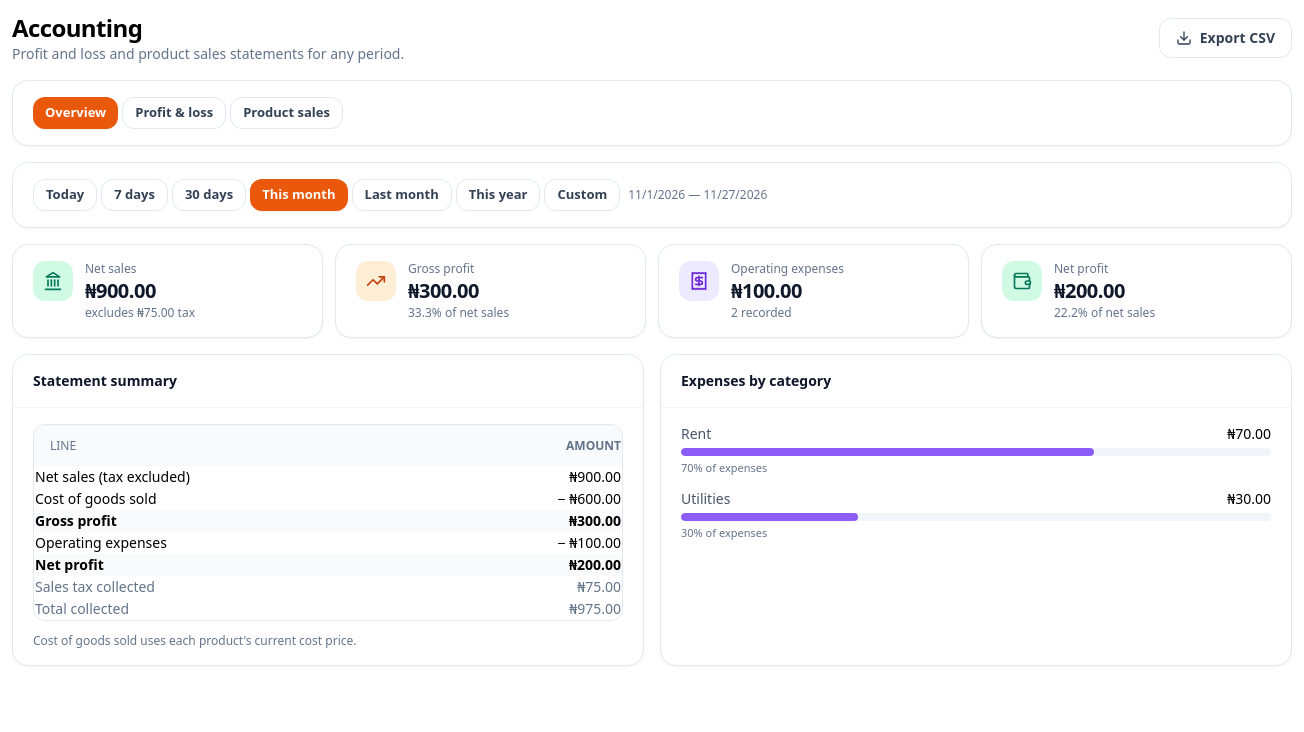
Test case: AccountingPage › renders the product sales statement with totals and unsold count
Expected: the heading "Statement summary" is shown, [33,371,177,390]
Click the button "Product sales": (287, 113) [230,97,343,129]
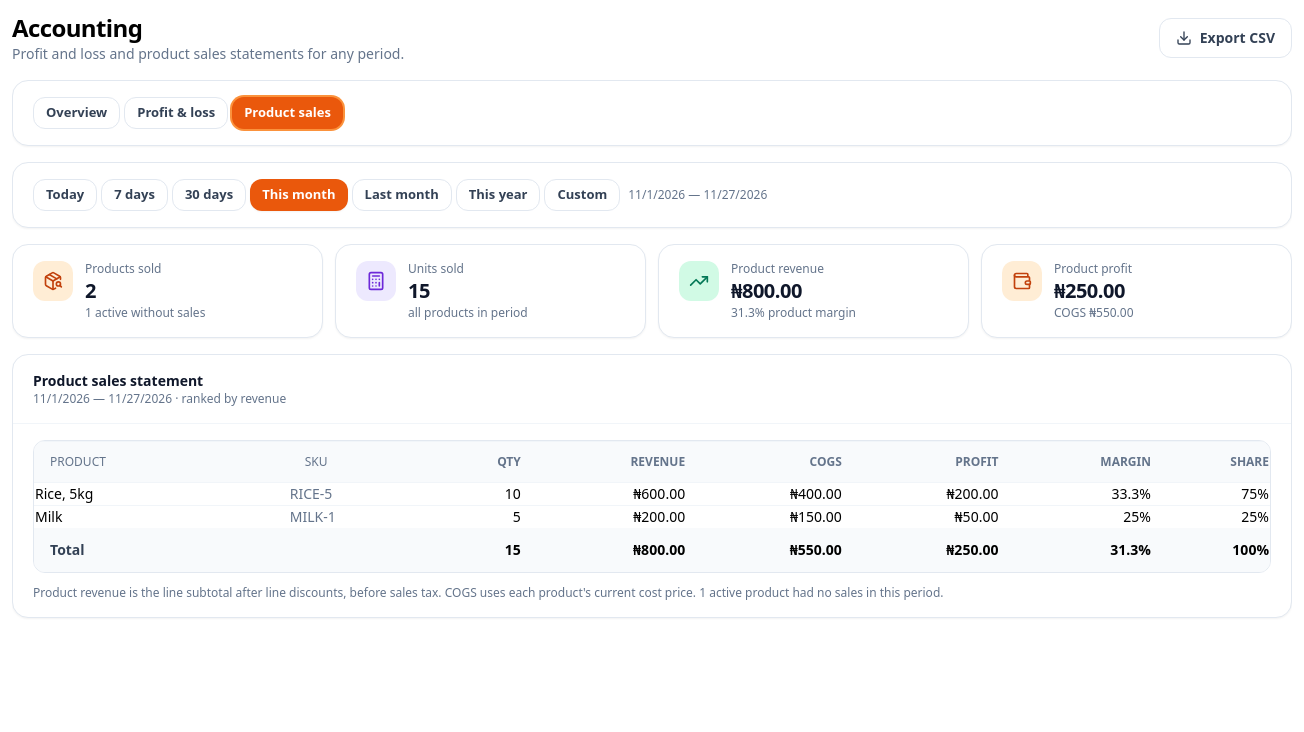
Expected: the heading "Product sales statement" is shown, [33,371,203,390]
Expected: the text "Rice, 5kg" is shown, [34,482,289,506]
Expected: the text "1 active product had no sales in this period" is shown, [696,584,943,601]
